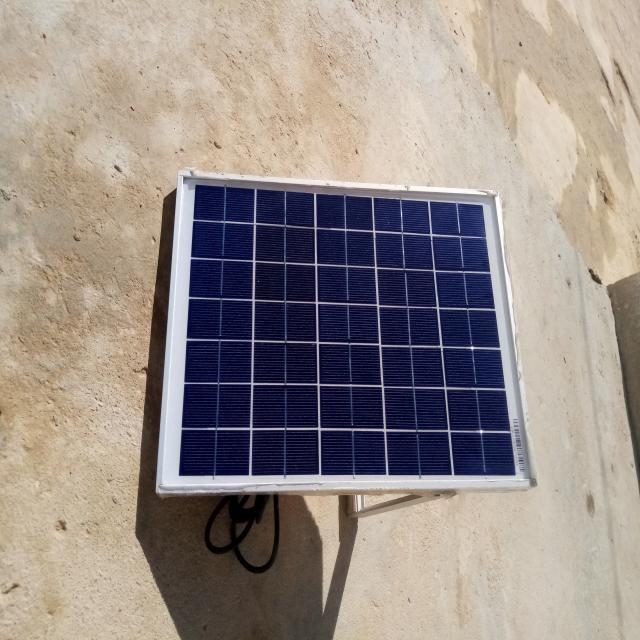no faulty: (155, 176, 535, 492)
